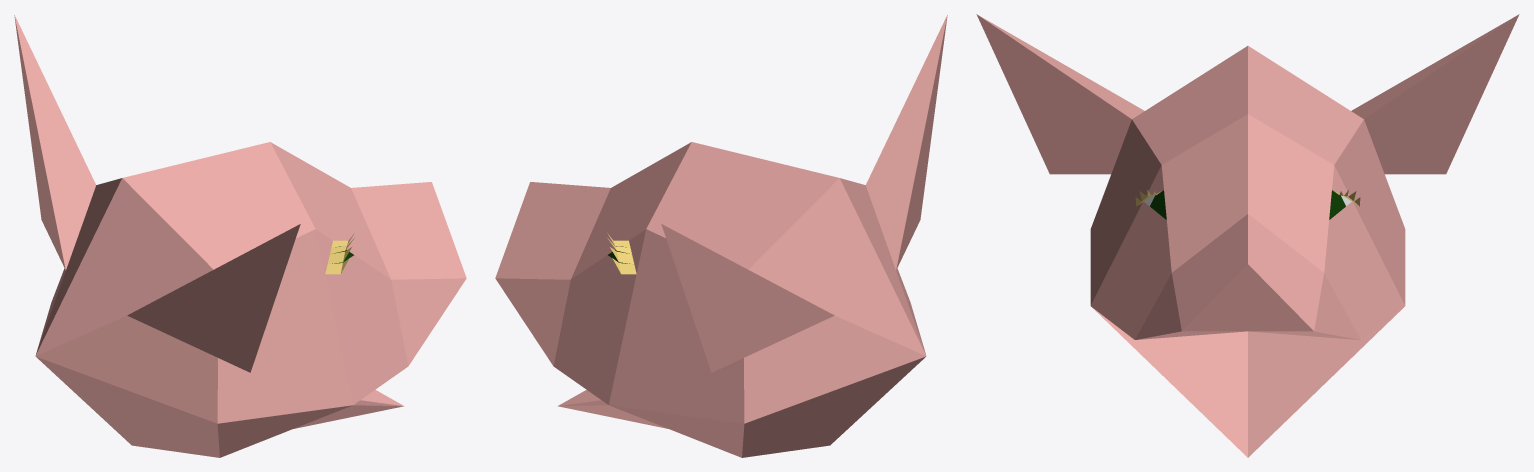
The model's file is pig2.gltf.
The picture shows the model from 3 angles, left to right: view 1: azimuth 30°, elevation 25°; view 2: azimuth 150°, elevation 25°; view 3: azimuth 270°, elevation 25°; orthographic projection. The views are drawn at different scales.
Visible parts, largest first — view 1: Cube.001; view 2: Cube.001; view 3: Cube.001.
Boxes of the visible parts, bbox=[...] form: Cube.001: bbox=[14, 15, 466, 457]; Cube.001: bbox=[495, 15, 947, 457]; Cube.001: bbox=[976, 14, 1519, 457].
Bounding box in the file's own units: 2.92 × 2.45 × 3.66.
